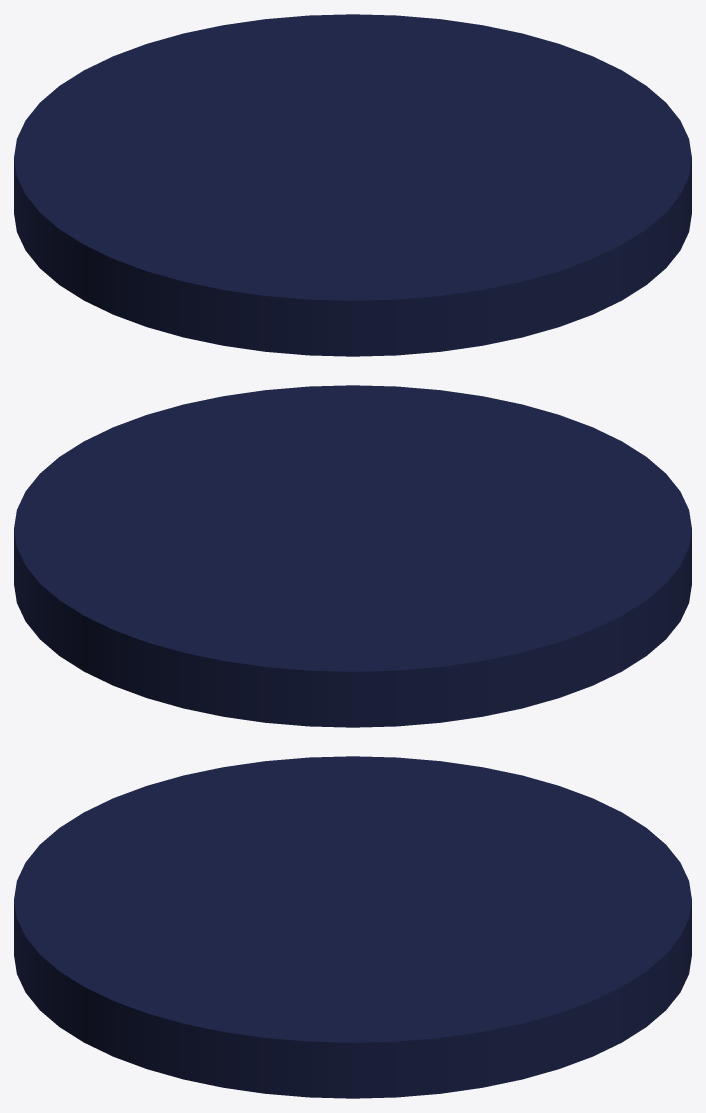
The model's file is fant_suspension_panel_1x1b_collider.obj.
3 views of the same model, one above another, from view 1: azimuth 30°, elevation 25°; view 2: azimuth 150°, elevation 25°; view 3: azimuth 270°, elevation 25° (orthographic).
Parts seen in each view (by area): view 1: suspension_panel_1x1b_collider_Cube.003; view 2: suspension_panel_1x1b_collider_Cube.003; view 3: suspension_panel_1x1b_collider_Cube.003.
Boxes of the visible parts, left/top/right/bottom form: suspension_panel_1x1b_collider_Cube.003: left=14, top=14, right=691, bottom=356; suspension_panel_1x1b_collider_Cube.003: left=14, top=385, right=691, bottom=727; suspension_panel_1x1b_collider_Cube.003: left=14, top=756, right=691, bottom=1098.
Size of the model in its own units: 1.1 by 0.1 by 1.1.
